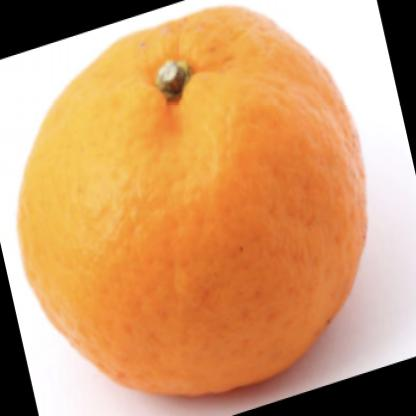orange: (19, 7, 371, 404)
